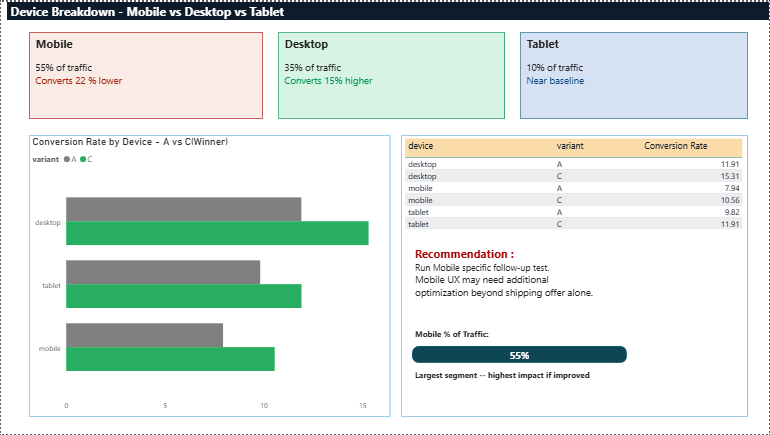

What the dashboard file says about the page in this screenshot:
{"tool":"powerbi","page":{"name":"Device Breakdown","canvas":[1280,720],"ordinal":2},"visuals":[{"type":"clusteredBarChart","title":"Conversion Rate by Device - A vs C(Winner)","fields":{"Category":["checkout_ab_test_data.device"],"Y":["Measures (2).Conversion Rate"],"Series":["checkout_ab_test_data.variant"]},"box":[46.7,221.7,601.7,470],"z":0},{"type":"textbox","box":[46.7,50,390,145],"z":1000},{"type":"textbox","box":[865,50,380,145],"z":2000},{"type":"textbox","box":[461.7,50,378.3,145],"z":3000},{"type":"tableEx","fields":{"Values":["checkout_ab_test_data.device","checkout_ab_test_data.variant","Measures (2).Conversion Rate"]},"box":[666.7,221.7,578.3,470],"z":4000},{"type":"textbox","box":[685,401.7,443.3,260],"z":5000},{"type":"shape","box":[685,573.3,358.3,28.3],"z":6000},{"type":"shape","box":[10,0,1270,30],"z":7000}]}

Visuals, with their boxes in screenshot pixels (x1, y1, x2, y2), scaled from the page's 1280x720 canvas onto the 770x435 screenshot:
"Conversion Rate by Device - A vs C(Winner)" clusteredBarChart: 28, 134, 390, 418
textbox: 28, 30, 263, 118
textbox: 520, 30, 749, 118
textbox: 278, 30, 505, 118
tableEx - checkout_ab_test_data.device x checkout_ab_test_data.variant: 401, 134, 749, 418
textbox: 412, 243, 679, 400
shape: 412, 346, 628, 363
shape: 6, 0, 769, 18
